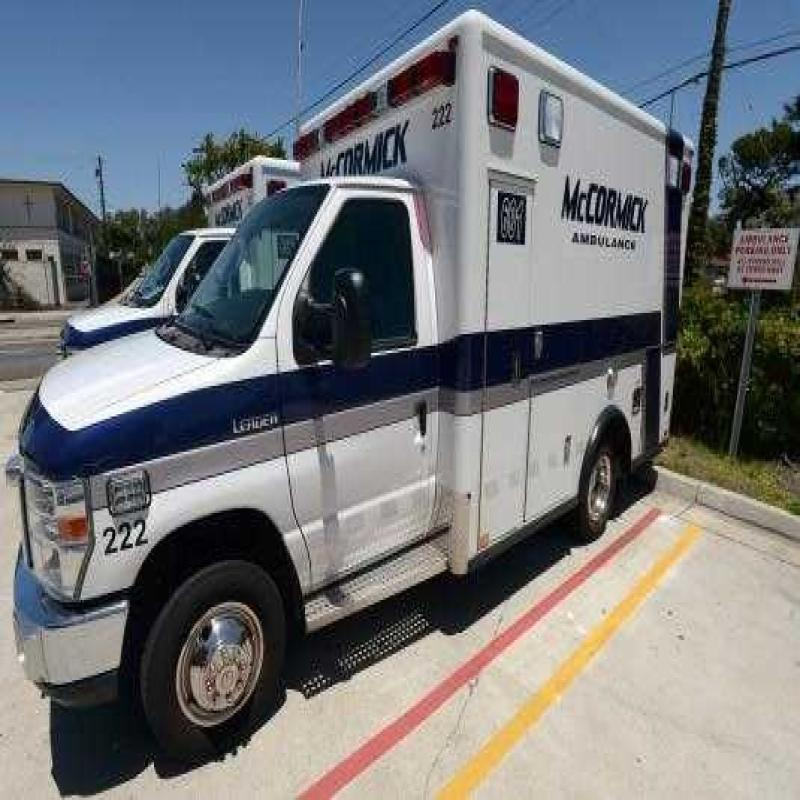AmbulanceSiren: (278, 24, 467, 181)
